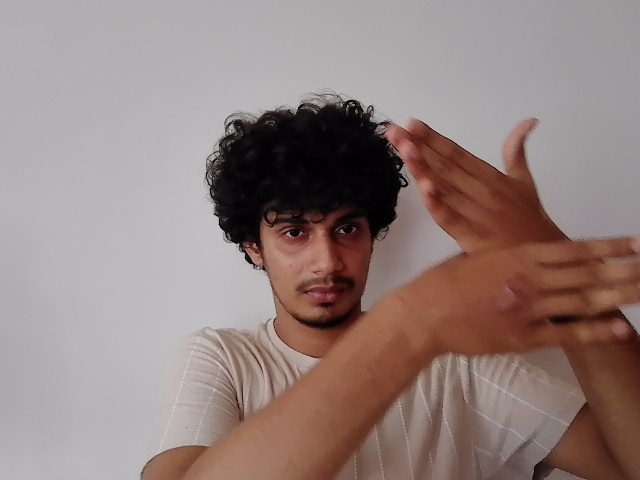busy: (385, 115, 640, 365)
